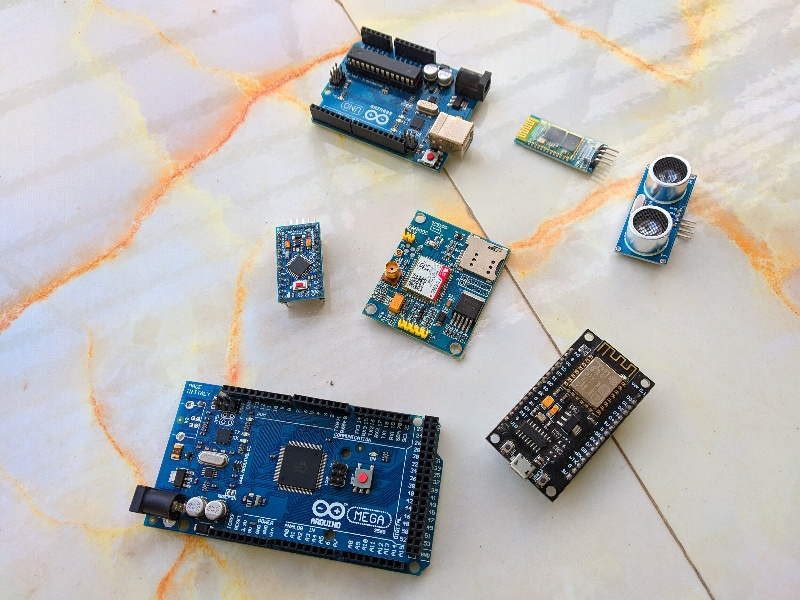Arduino Mega 2560: (126, 373, 452, 581)
Arduino Pro Mini: (270, 221, 329, 304)
Arduino UNO: (307, 19, 497, 180)
HC-05: (510, 111, 609, 179)
NodeMCU: (481, 327, 662, 505)
SIM800: (355, 206, 517, 362)
Sonar Sensor: (613, 153, 707, 270)
